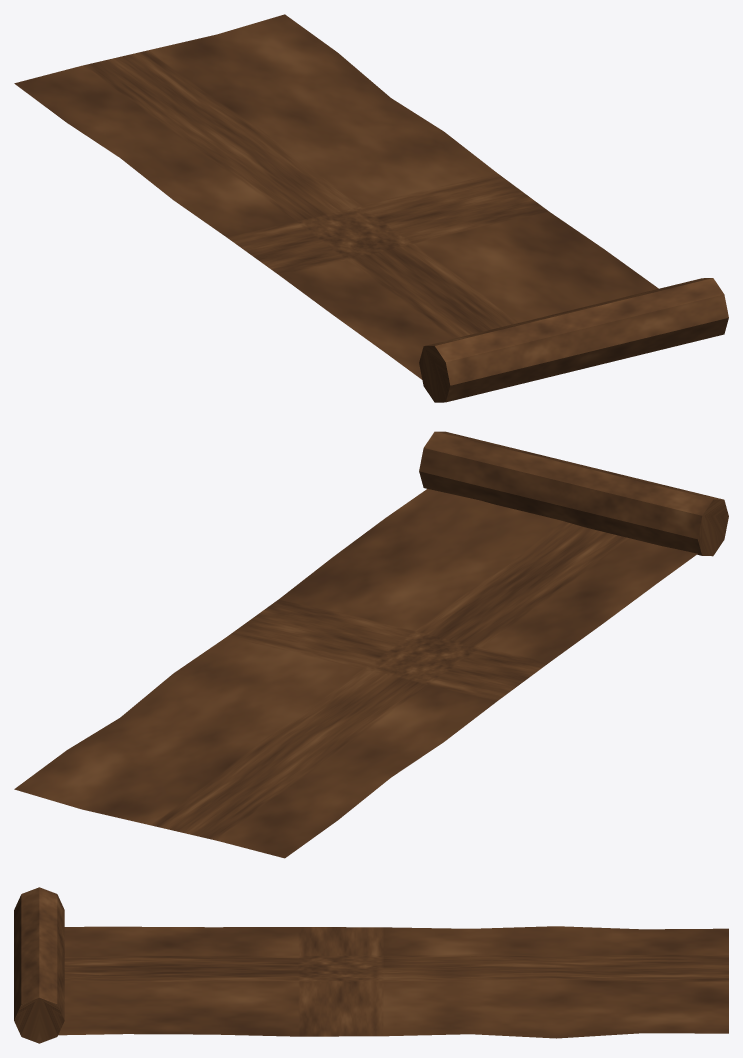
Rendered from PROP_Bedroll.fbx.
The picture shows the model from 3 angles, top to bottom: view 1: azimuth 30°, elevation 25°; view 2: azimuth 150°, elevation 25°; view 3: azimuth 270°, elevation 25°; orthographic projection. The views are drawn at different scales.
Parts seen in each view (by area): view 1: PROP_Bedroll; view 2: PROP_Bedroll; view 3: PROP_Bedroll.
Boxes of the visible parts, x1,y1,x2,y2 form: PROP_Bedroll: (14,14,728,402); PROP_Bedroll: (14,431,728,858); PROP_Bedroll: (14,887,728,1043).
Size of the model in its own units: 0.72 by 0.14 by 1.97.
